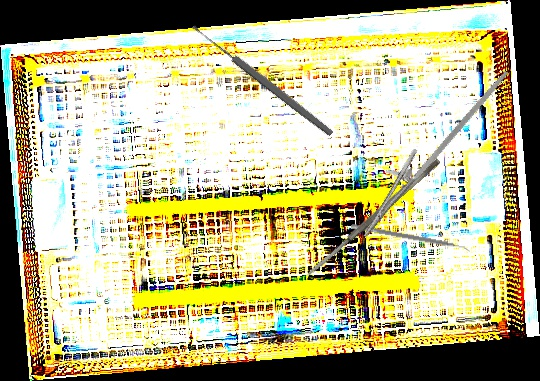Needle Holder: (348, 46, 510, 253)
Spatula Surgical: (304, 157, 442, 278), (350, 223, 471, 255)
Surgical Spoon: (190, 22, 335, 138)
